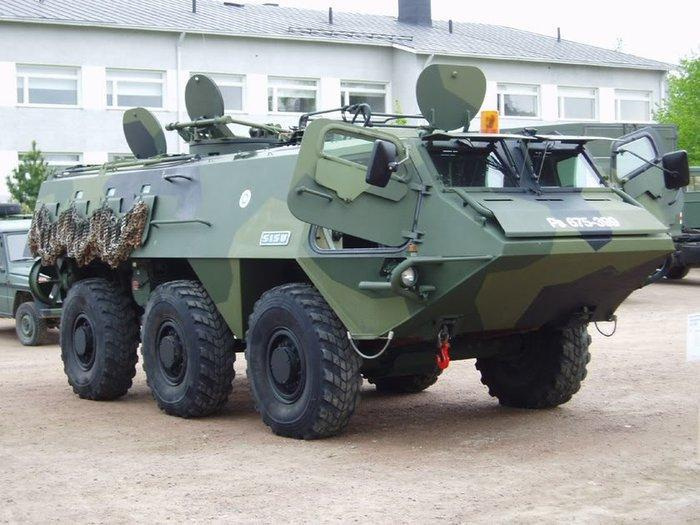MIL_IFV: (30, 66, 684, 444)
